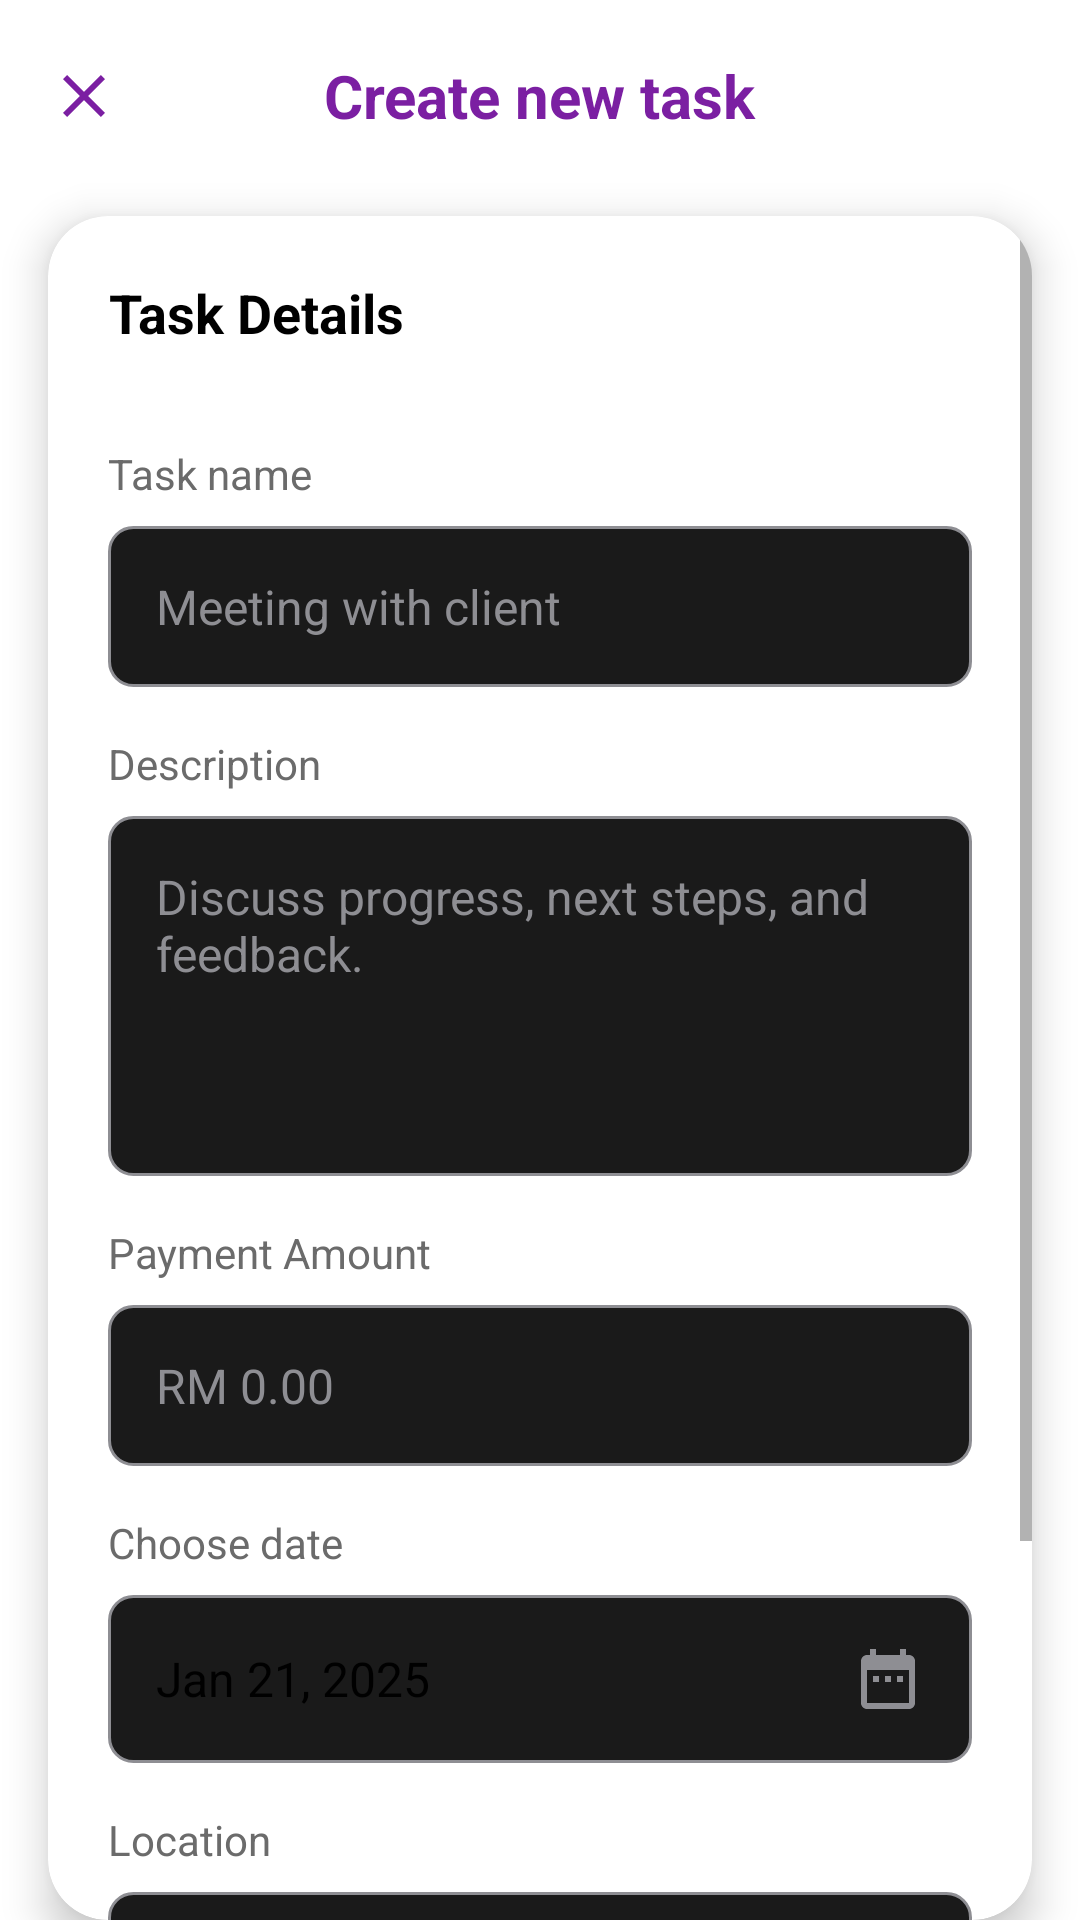

Where icons sit on this 1080 × 1920 app screen, as (x1, y1, x2, y2):
Calendar icon: (861, 1649, 915, 1709)
Close screen: (63, 75, 105, 117)
